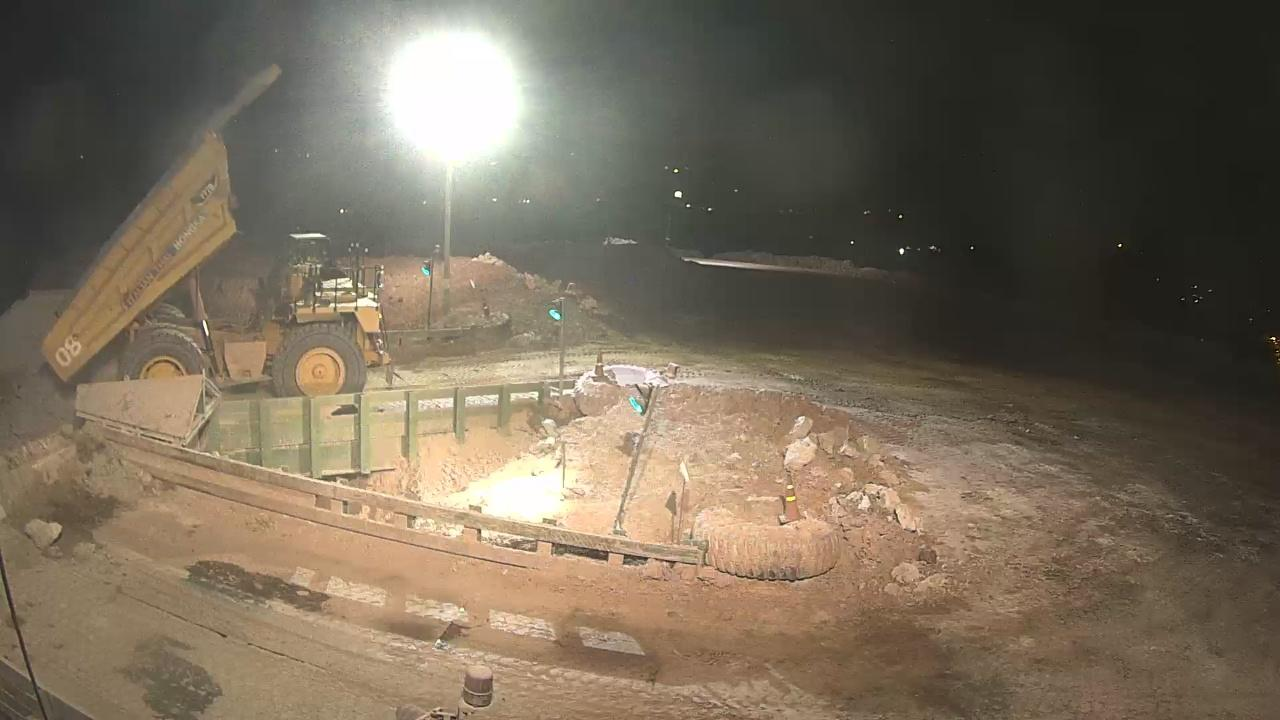dumping_soil: (32, 57, 440, 432)
tail_number: (52, 326, 83, 376)
